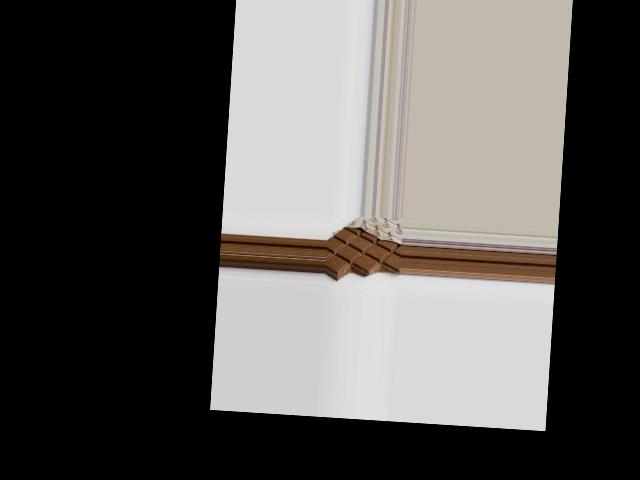chocolate: (325, 215, 404, 279)
